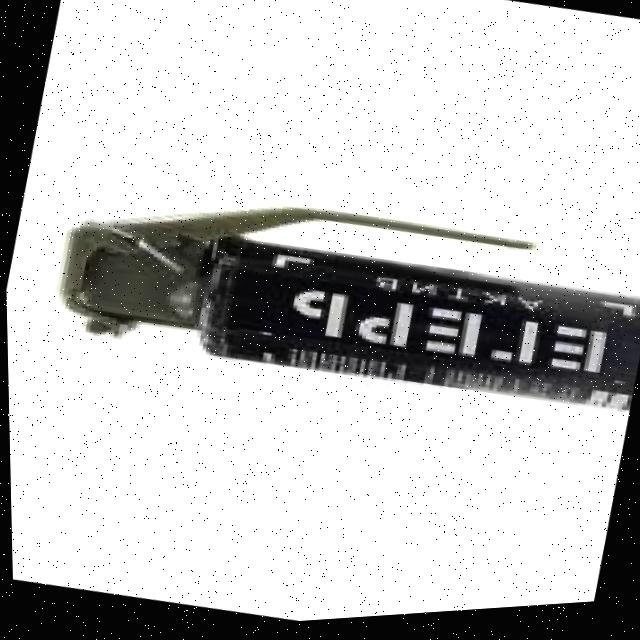grenade: (19, 137, 640, 469)
